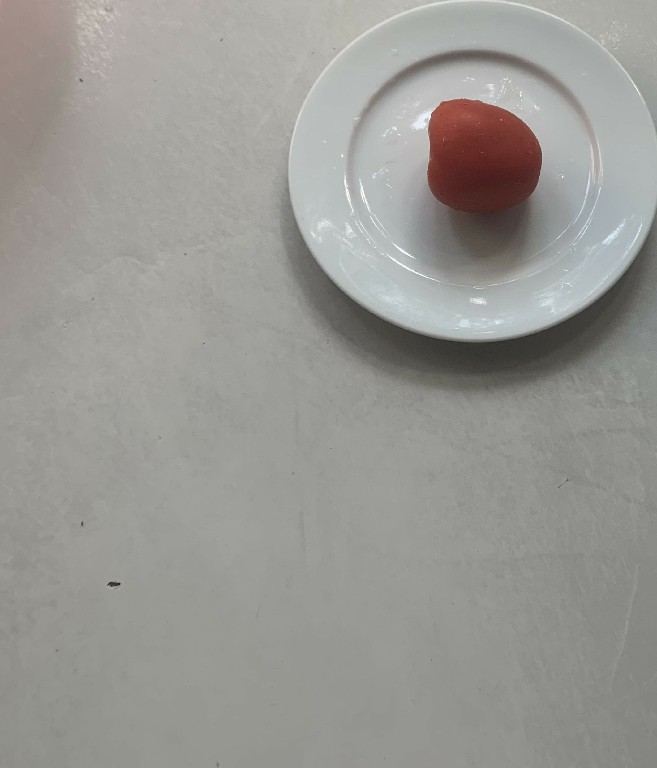OK: (425, 96, 550, 225)
